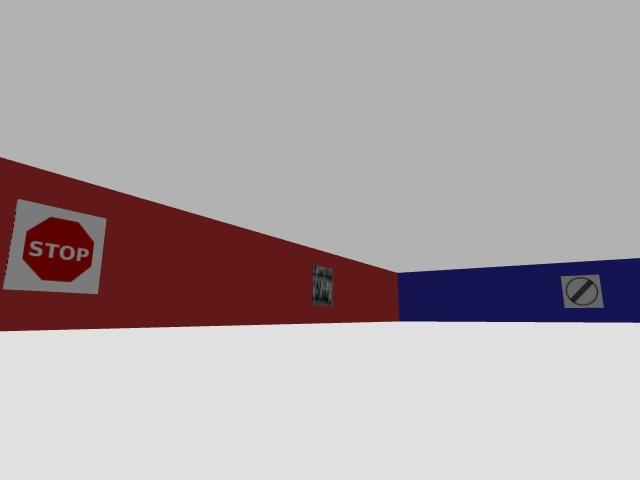fastsign: (561, 275, 603, 307)
stopsign: (3, 199, 106, 294)
